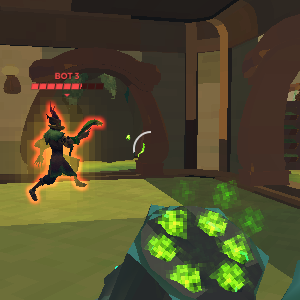model: (24, 98, 105, 209)
